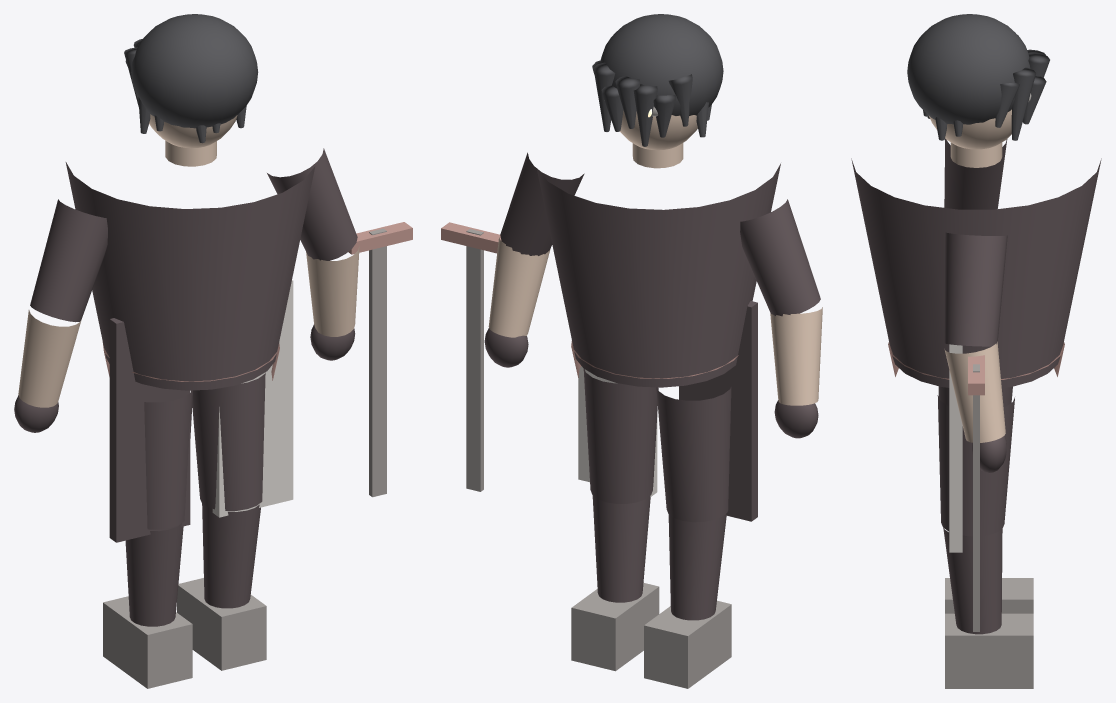
The model's file is sebastian-procedural-v1.glb.
3 views of the same model, side by side, from view 1: azimuth 30°, elevation 25°; view 2: azimuth 150°, elevation 25°; view 3: azimuth 270°, elevation 25° (orthographic). The views are drawn at different scales.
Parts seen in each view (by area): view 1: Outfit_Torso, Hair_Cap, Outfit_CoatTail_L, Body_Thigh_R, Body_UpperArm_L, Outfit_CoatTail_R, Outfit_Boot_L, Body_Thigh_L, Outfit_Boot_R, Body_Shin_R, Body_Shin_L, Weapon_SwordBlade (+8 smaller); view 2: Outfit_Torso, Body_Thigh_L, Body_Thigh_R, Hair_Cap, Outfit_CoatTail_L, Body_UpperArm_L, Outfit_Boot_L, Outfit_Boot_R, Body_Shin_R, Body_Shin_L, Weapon_SwordBlade, Body_Forearm_L (+14 smaller); view 3: Outfit_Torso, Hair_Cap, Body_UpperArm_R, Outfit_Boot_R, Body_Thigh_R, Body_Shin_R, Body_Forearm_R, Body_UpperArm_L, Outfit_CoatTail_R, Weapon_SwordBlade, Body_Head, Outfit_Boot_L (+8 smaller).
Part boxes in pixels (x1,y1,x2,y2): Outfit_Torso: [65, 162, 315, 390]; Hair_Cap: [131, 14, 258, 128]; Outfit_CoatTail_L: [109, 318, 190, 542]; Body_Thigh_R: [191, 372, 265, 510]; Body_UpperArm_L: [30, 199, 107, 322]; Outfit_CoatTail_R: [212, 280, 293, 517]; Outfit_Boot_L: [103, 596, 192, 688]; Body_Thigh_L: [144, 390, 192, 529]; Outfit_Boot_R: [177, 578, 266, 670]; Body_Shin_R: [202, 503, 260, 608]; Body_Shin_L: [125, 523, 183, 626]; Weapon_SwordBlade: [369, 228, 386, 497]; Outfit_Torso: [536, 163, 780, 387]; Body_Thigh_L: [656, 387, 731, 522]; Body_Thigh_R: [583, 369, 658, 503]; Hair_Cap: [600, 14, 723, 115]; Outfit_CoatTail_L: [679, 301, 757, 521]; Body_UpperArm_L: [740, 199, 820, 316]; Outfit_Boot_L: [644, 600, 731, 688]; Outfit_Boot_R: [571, 583, 659, 671]; Body_Shin_R: [592, 495, 650, 602]; Body_Shin_L: [668, 514, 726, 620]; Weapon_SwordBlade: [466, 229, 483, 491]; Body_Forearm_L: [770, 307, 822, 405]; Outfit_Torso: [851, 158, 1101, 387]; Hair_Cap: [907, 14, 1030, 124]; Body_UpperArm_R: [944, 232, 1007, 346]; Outfit_Boot_R: [945, 613, 1033, 688]; Body_Thigh_R: [937, 395, 1014, 536]; Body_Shin_R: [943, 528, 1002, 634]; Body_Forearm_R: [944, 341, 1005, 442]; Body_UpperArm_L: [944, 138, 1007, 209]; Outfit_CoatTail_R: [949, 344, 962, 552]; Weapon_SwordBlade: [973, 364, 979, 631]; Body_Head: [929, 109, 1011, 149]; Outfit_Boot_L: [945, 578, 1033, 613].
Bounding box in the file's own units: 1.19 × 1.89 × 0.6724.
